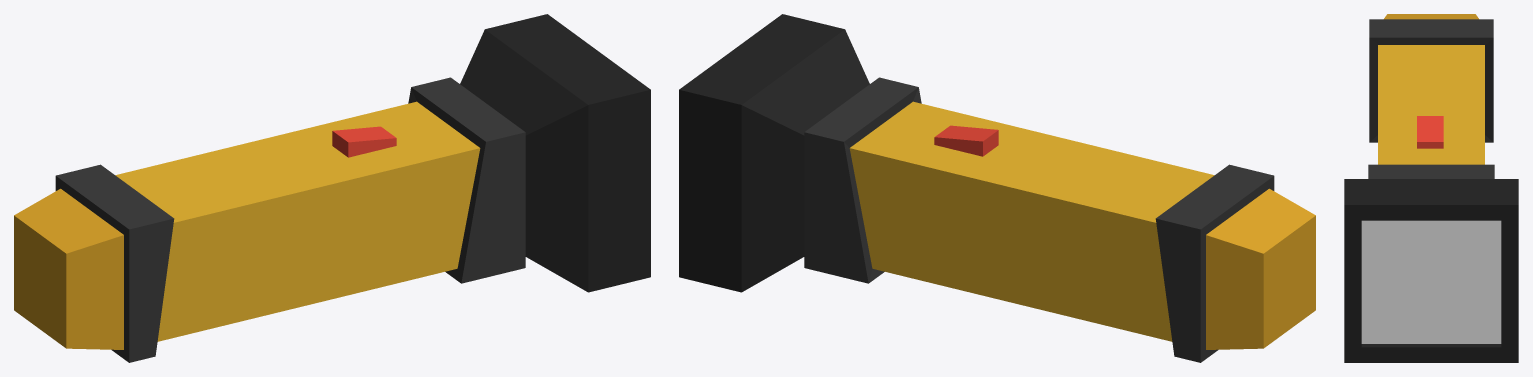
File: FlashLight.fbx
The picture shows the model from 3 angles, left to right: view 1: azimuth 30°, elevation 25°; view 2: azimuth 150°, elevation 25°; view 3: azimuth 270°, elevation 25°; orthographic projection. The views are drawn at different scales.
Parts seen in each view (by area): view 1: FlashLight; view 2: FlashLight; view 3: FlashLight.
Part boxes in pixels (x1,y1,x2,y2): FlashLight: [14, 14, 650, 362]; FlashLight: [679, 14, 1315, 362]; FlashLight: [1344, 14, 1518, 362].
Bounding box in the file's own units: 102 × 32.6 × 32.6.
